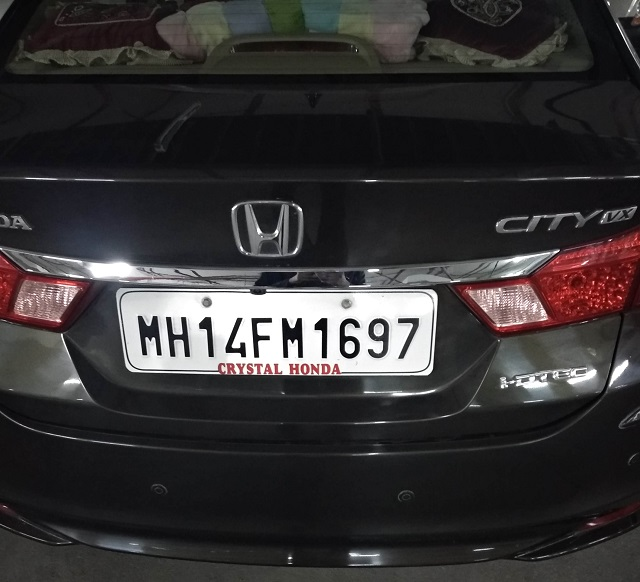licenseplate: (108, 280, 441, 377)
